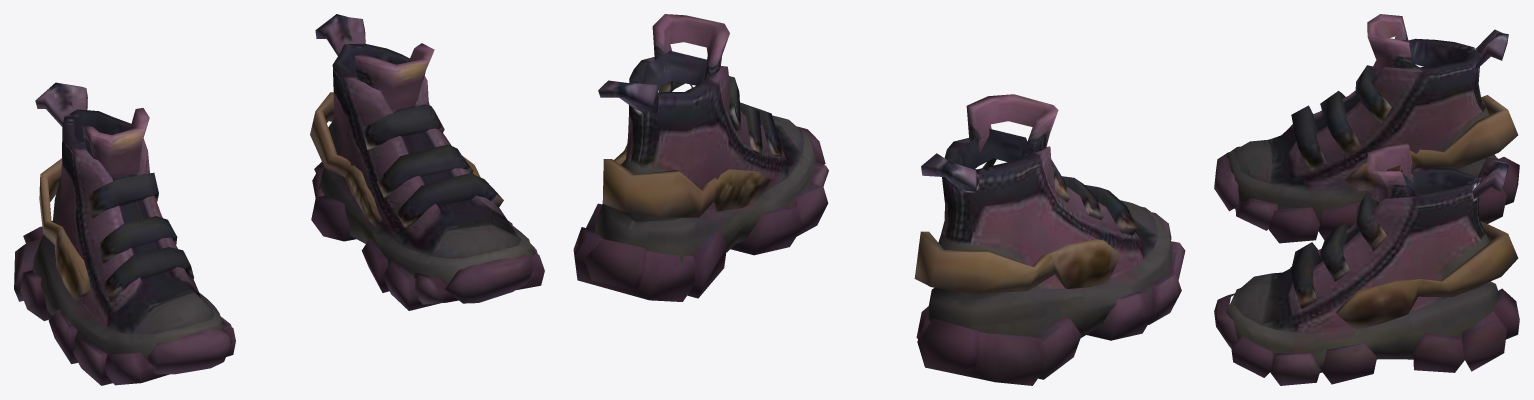
File: Shoes2_Women.glb
The picture shows the model from 3 angles, left to right: view 1: azimuth 30°, elevation 25°; view 2: azimuth 150°, elevation 25°; view 3: azimuth 270°, elevation 25°; orthographic projection. The views are drawn at different scales.
Visible parts, largest first — view 1: Wolf3D_Outfit_Footwear; view 2: Wolf3D_Outfit_Footwear; view 3: Wolf3D_Outfit_Footwear.
Part boxes in pixels (x1,y1,x2,y2): Wolf3D_Outfit_Footwear: [14, 14, 544, 385]; Wolf3D_Outfit_Footwear: [573, 14, 1185, 385]; Wolf3D_Outfit_Footwear: [1214, 14, 1519, 385].
Size of the model in its own units: 0.5061 by 0.2197 by 0.315.
Materials: 1 (1 with a texture image).
